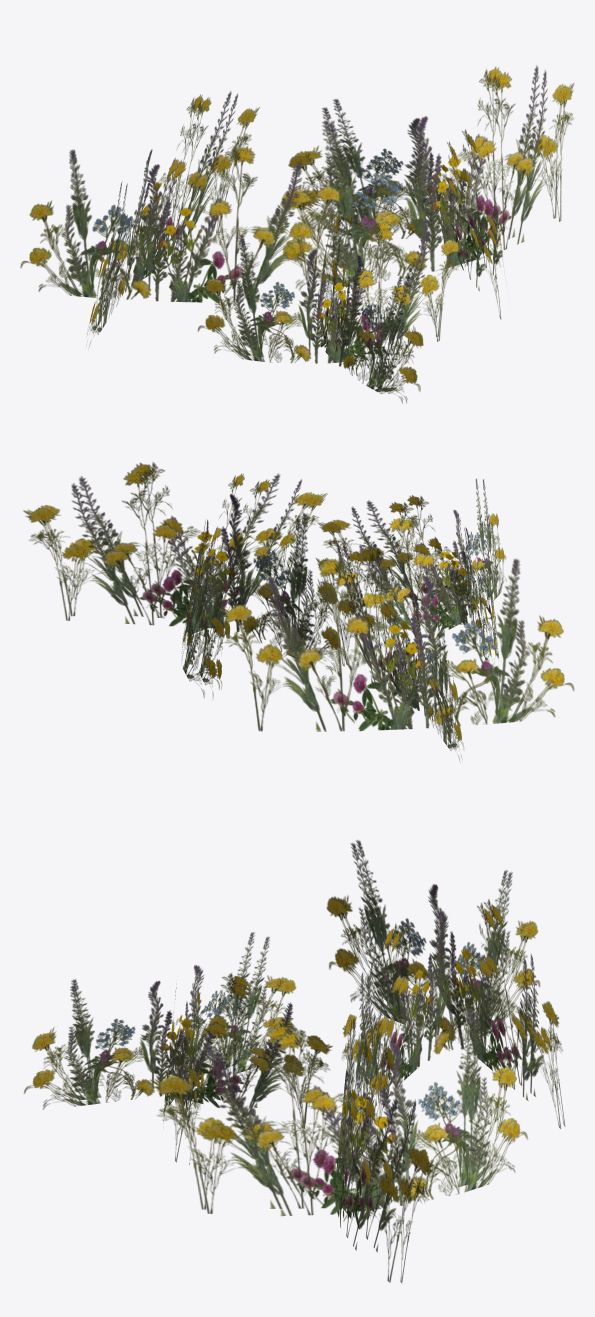
The model's file is grass_flowers03.glb.
3 renders of one model, top to bottom at view 1: azimuth 30°, elevation 25°; view 2: azimuth 150°, elevation 25°; view 3: azimuth 270°, elevation 25°, orthographic. The views are drawn at different scales.
Visible parts, largest first — view 1: Grass_Flowers03_LOD0; view 2: Grass_Flowers03_LOD0; view 3: Grass_Flowers03_LOD0.
Part boxes in pixels (x1=…): Grass_Flowers03_LOD0: x1=20, y1=65, x2=574, y2=403; Grass_Flowers03_LOD0: x1=23, y1=462, x2=574, y2=760; Grass_Flowers03_LOD0: x1=24, y1=840, x2=565, y2=1283.
Bounding box in the file's own units: 3.17 × 1.12 × 2.46.
1 material, 1 textured.
